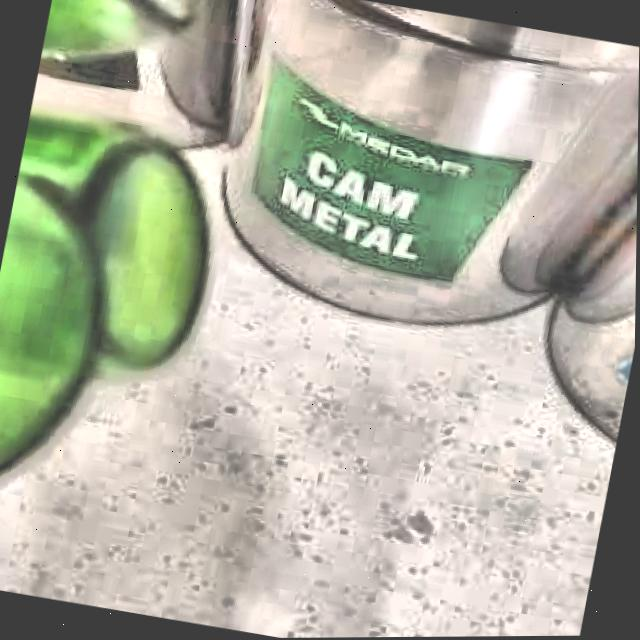glass: (0, 110, 209, 472)
